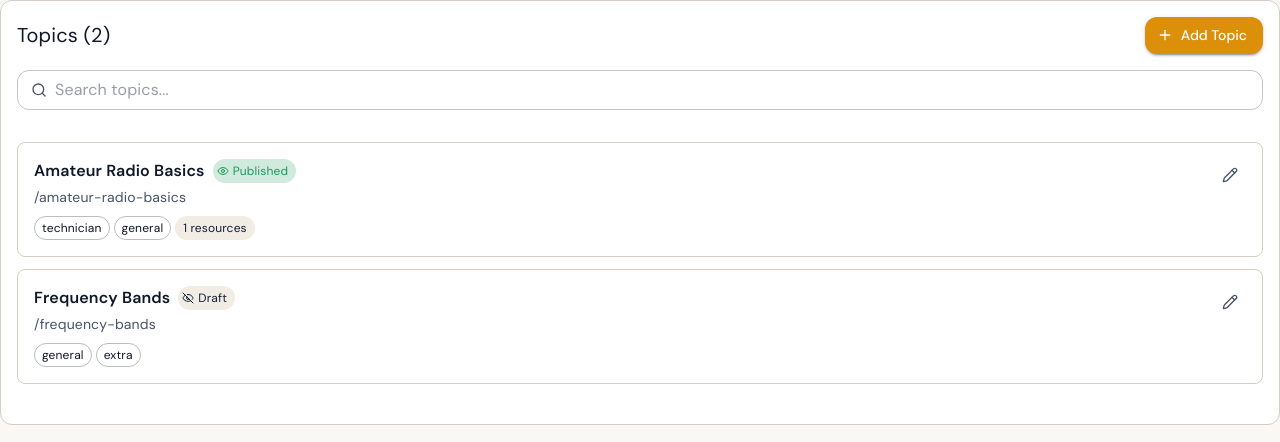
Test: AdminTopics › Search › should filter topics by slug
Expected: the heading "Frequency Bands" is shown, [34,286,170,310]
Type "frequency" into the field with placeholder "Search topics..." at {"x": 659, "y": 90}, box [55,70,1263,110]
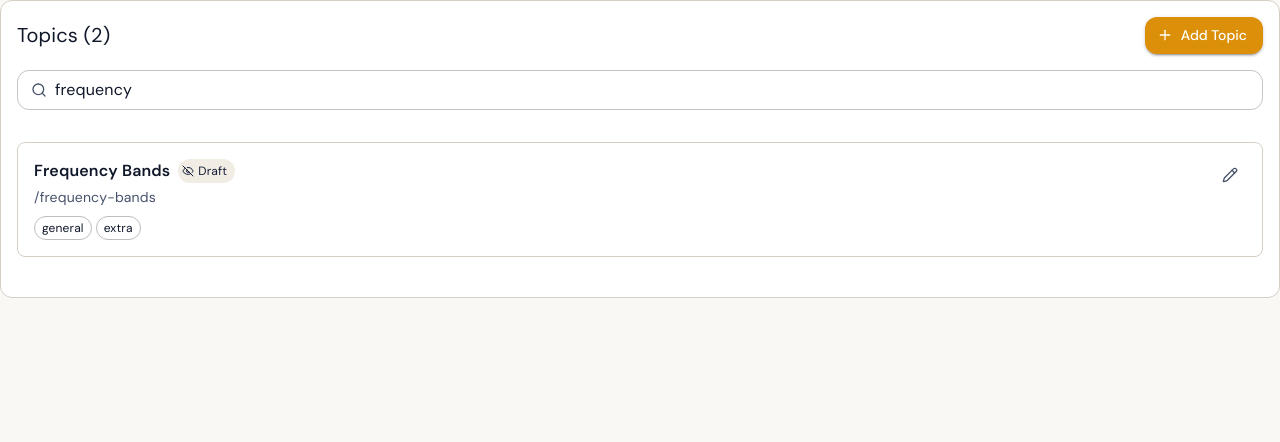
Expected: the heading "Frequency Bands" is shown, [34,158,170,182]
Now the heading "Amateur Radio Basics" is gone
